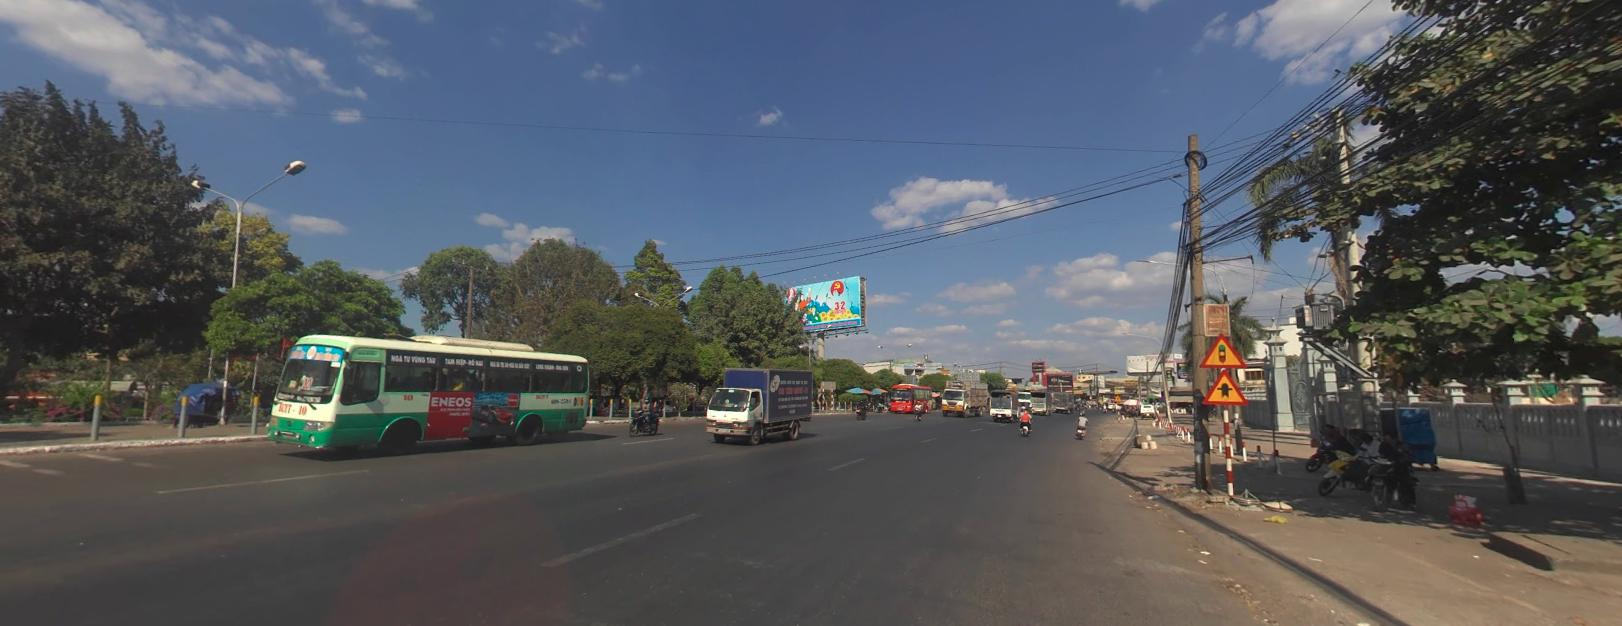Cam dung va do: (1159, 395, 1165, 401)
Nguy hiem: (1199, 328, 1246, 367), (1201, 366, 1249, 404), (1113, 393, 1121, 400)
